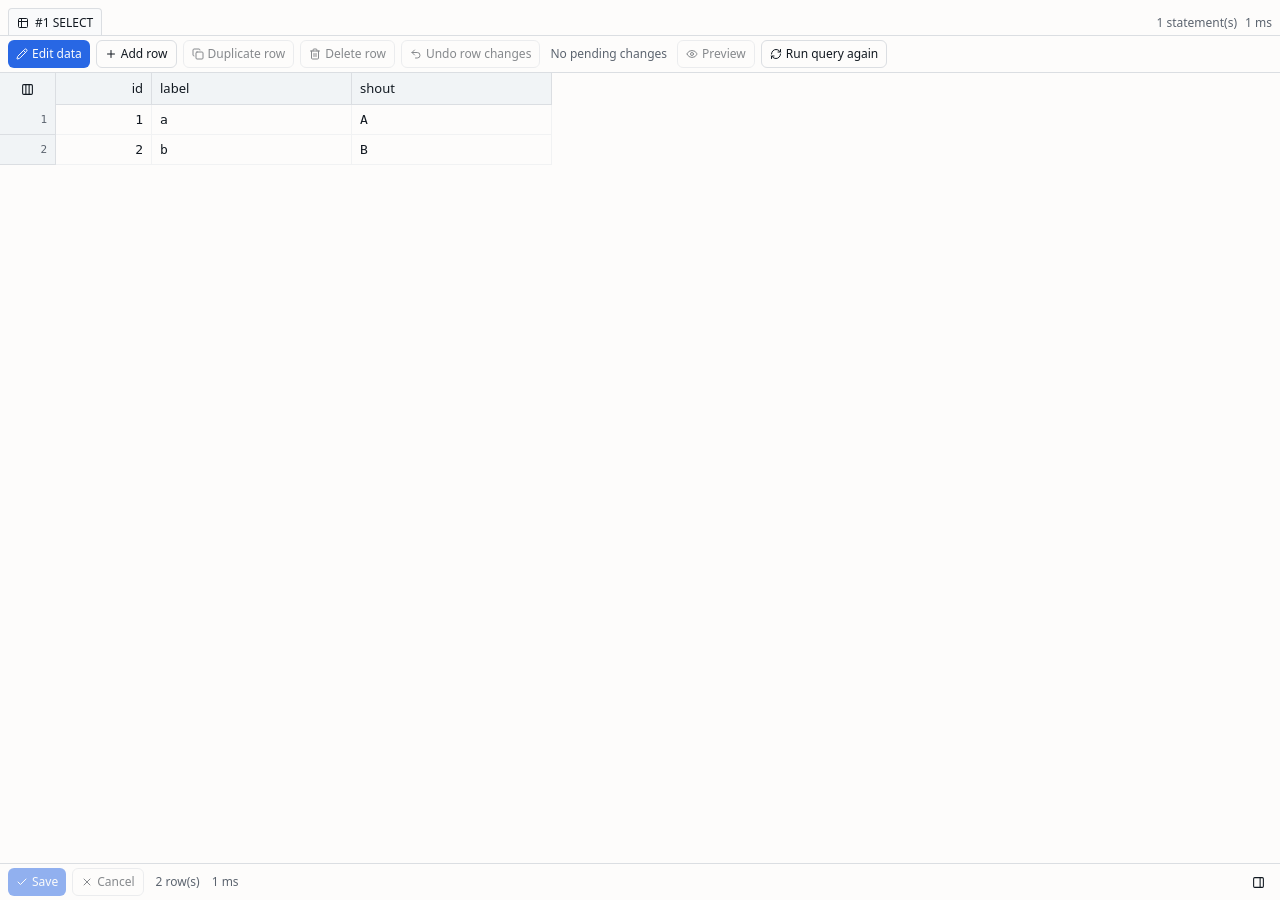
it: editable result › removes deleted rows from the grid and flags new rows for a re-run
This screenshot has width=1280, height=900.
Expected: the button "Edit data" is shown, [8,40,90,68]
Click the cell "b" at (252, 150), box [152,135,352,165]
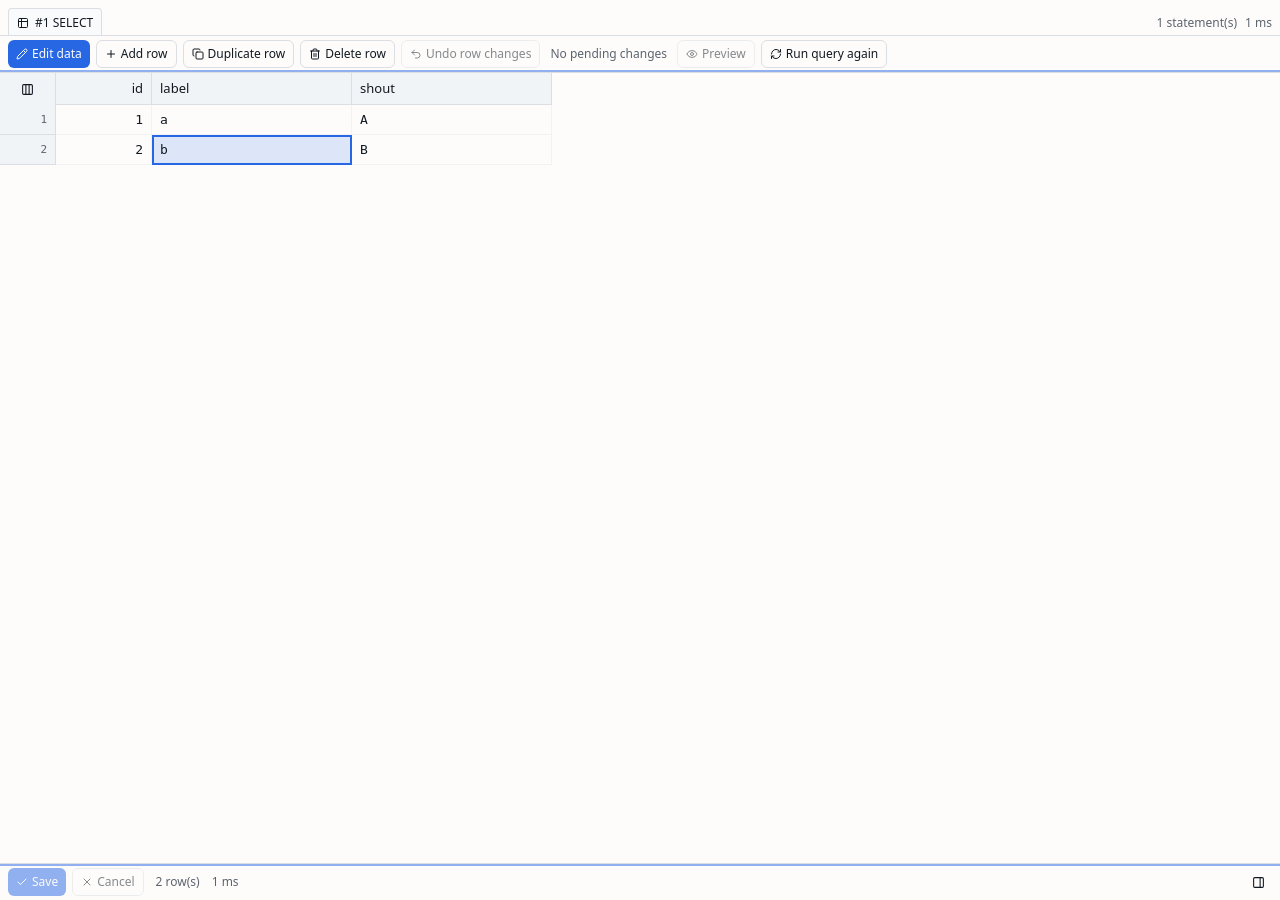
Click the button "Delete row" at (348, 54), box [300,40,395,68]
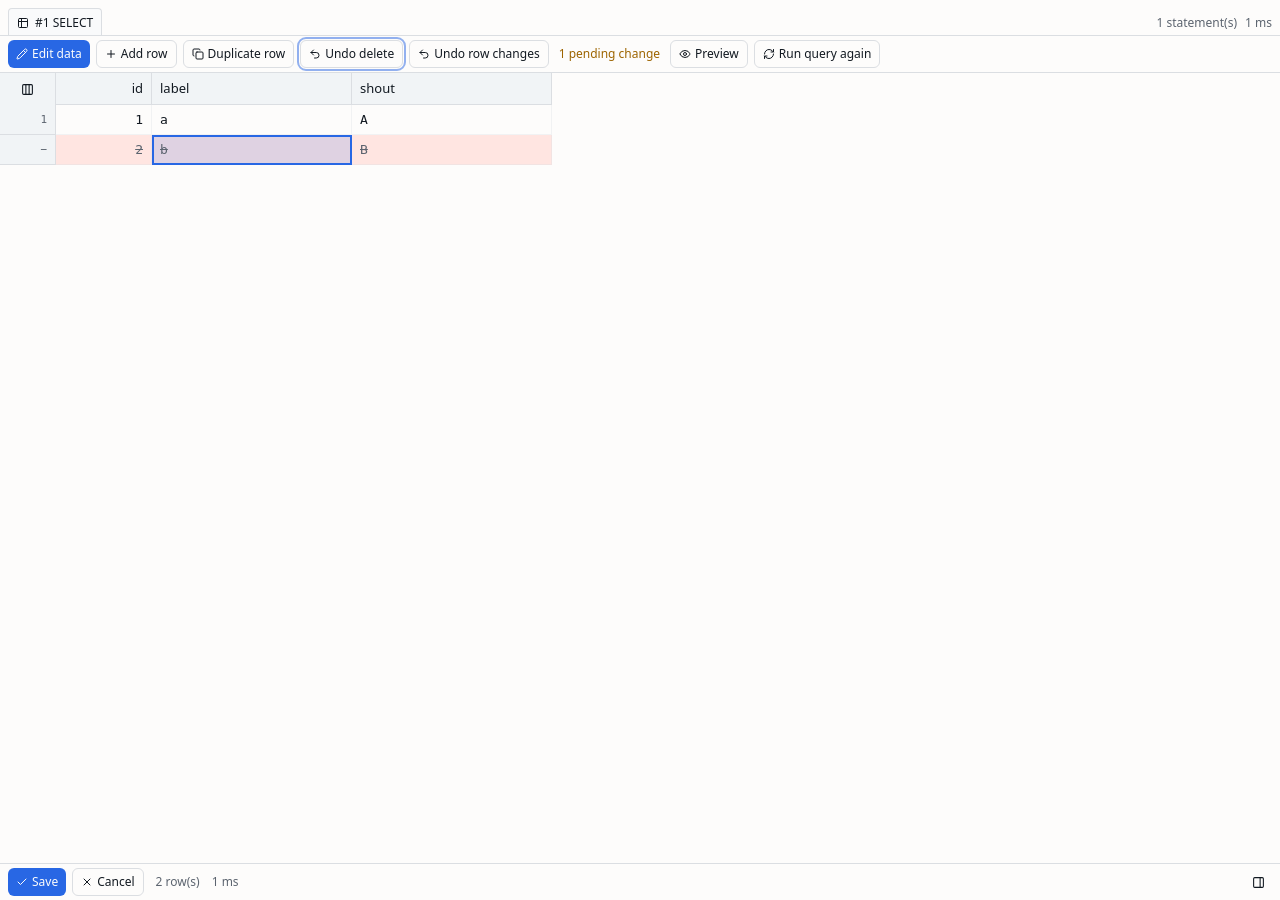
Expected: the row "− 2 b B" has attribute data-pending="deleted", [0,135,552,165]
Click the button "Add row" at (136, 54), box [96,40,176,68]
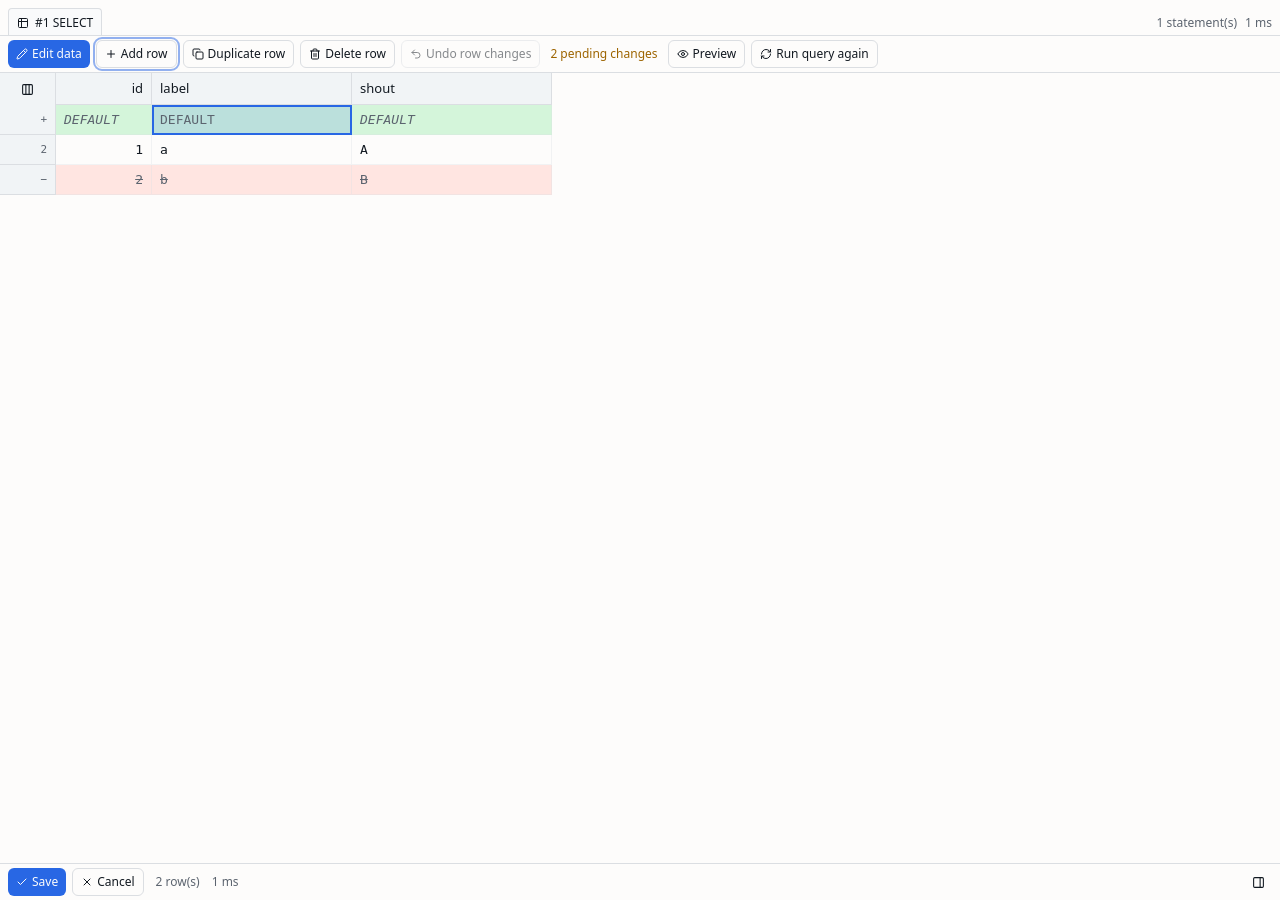
Click the button "Save" at (37, 882), box [8,868,66,896]
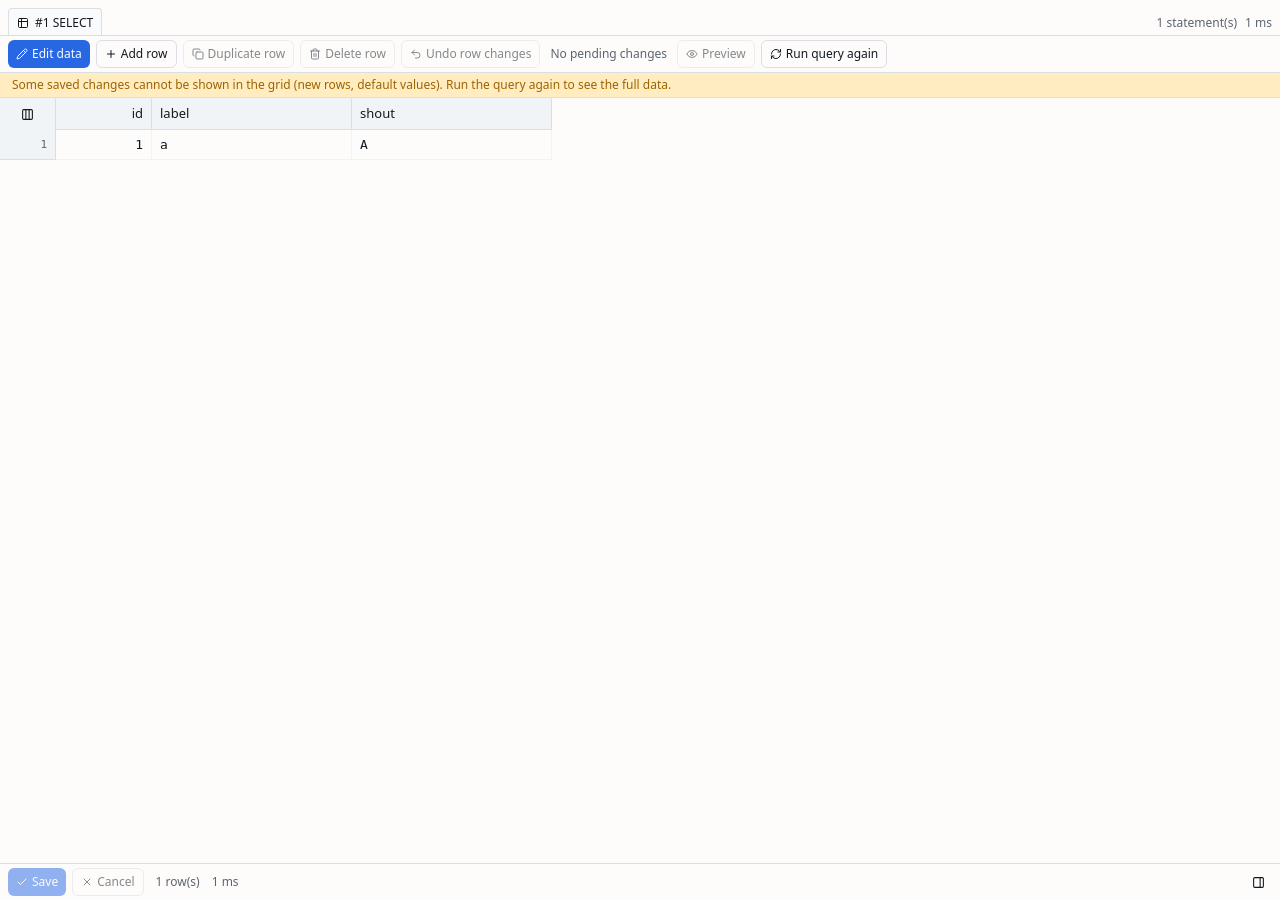
Expected: the message with test id "result-needs-rerun" is shown, [0,72,1279,97]
Expected: the text "1 row(s)" is shown, [156,874,200,890]
